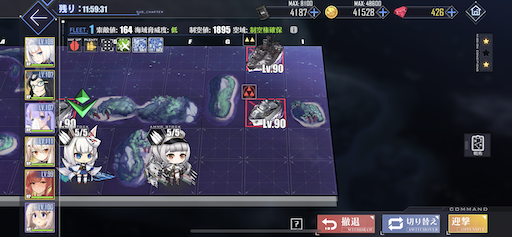lv2: (243, 33, 283, 74)
lv3: (243, 83, 286, 126)
